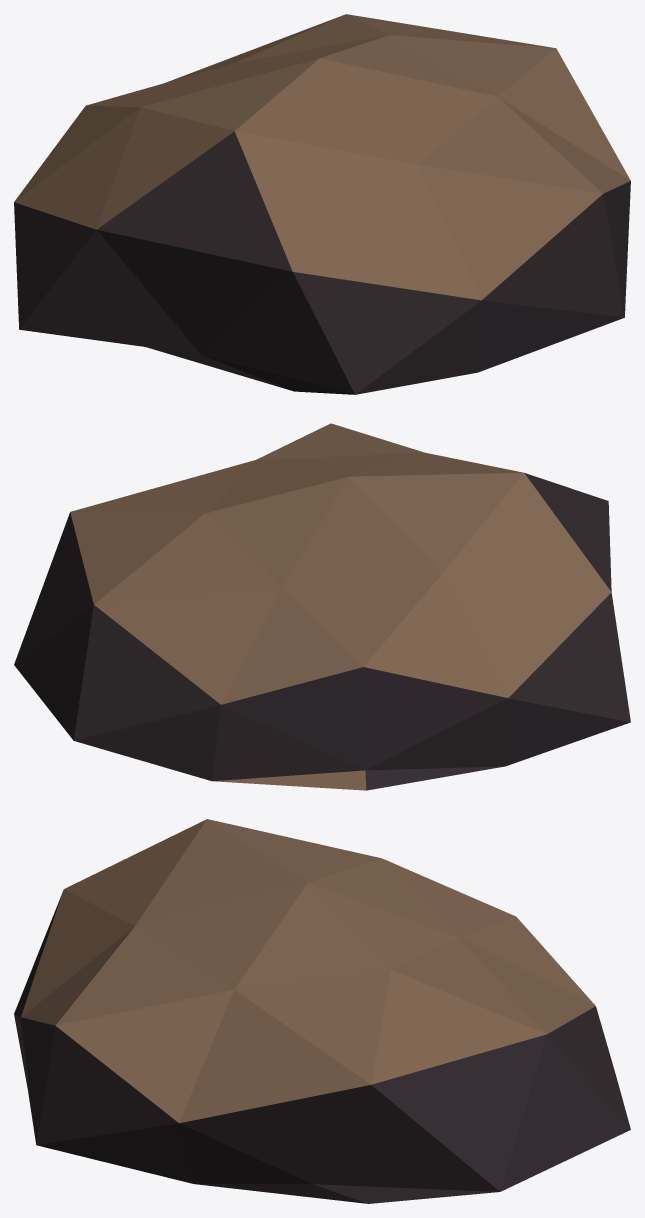
File: boulder_m2.glb
3 renders of one model, top to bottom at view 1: azimuth 30°, elevation 25°; view 2: azimuth 150°, elevation 25°; view 3: azimuth 270°, elevation 25°, orthographic. The views are drawn at different scales.
Visible parts, largest first — view 1: body__M_Cliff_Crust_T0, body__M_Cliff_Licorice; view 2: body__M_Cliff_Crust_T0, body__M_Cliff_Licorice; view 3: body__M_Cliff_Crust_T0, body__M_Cliff_Licorice.
Boxes of the visible parts, x1,y1,x2,y2 form: body__M_Cliff_Crust_T0: [14, 14, 630, 300]; body__M_Cliff_Licorice: [14, 131, 630, 394]; body__M_Cliff_Crust_T0: [70, 423, 611, 790]; body__M_Cliff_Licorice: [14, 473, 630, 790]; body__M_Cliff_Crust_T0: [21, 819, 595, 1123]; body__M_Cliff_Licorice: [14, 892, 630, 1203].
Size of the model in its own units: 0.5325 by 0.1862 by 0.5192.
